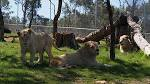lion: (16, 27, 59, 67), (56, 40, 102, 73)
